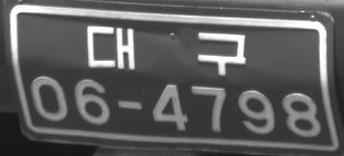0: (30, 74, 67, 122)
4: (152, 83, 187, 131)
6: (73, 77, 110, 125)
7: (190, 84, 227, 132)
8: (281, 92, 320, 137)
9: (236, 88, 276, 133)
대구_D: (86, 24, 245, 76)
